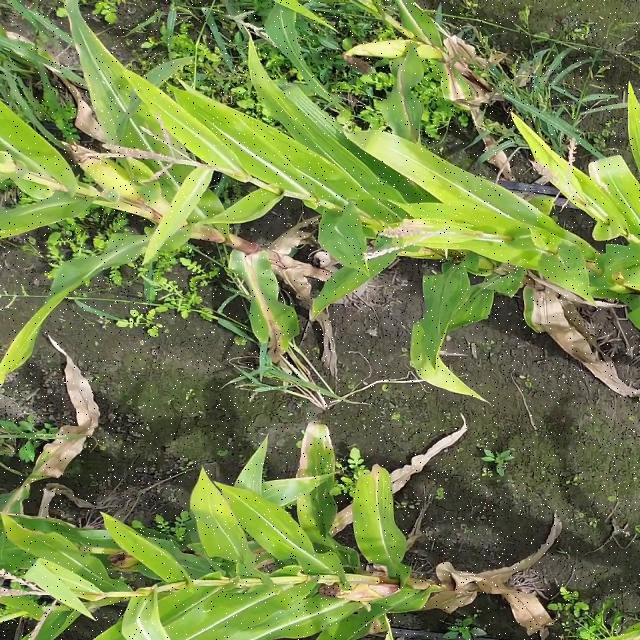gray-leaf-spot: (286, 425, 398, 547)
northern-leaf-blight: (227, 244, 340, 379)
southern-leaf-blight: (74, 78, 194, 158)
